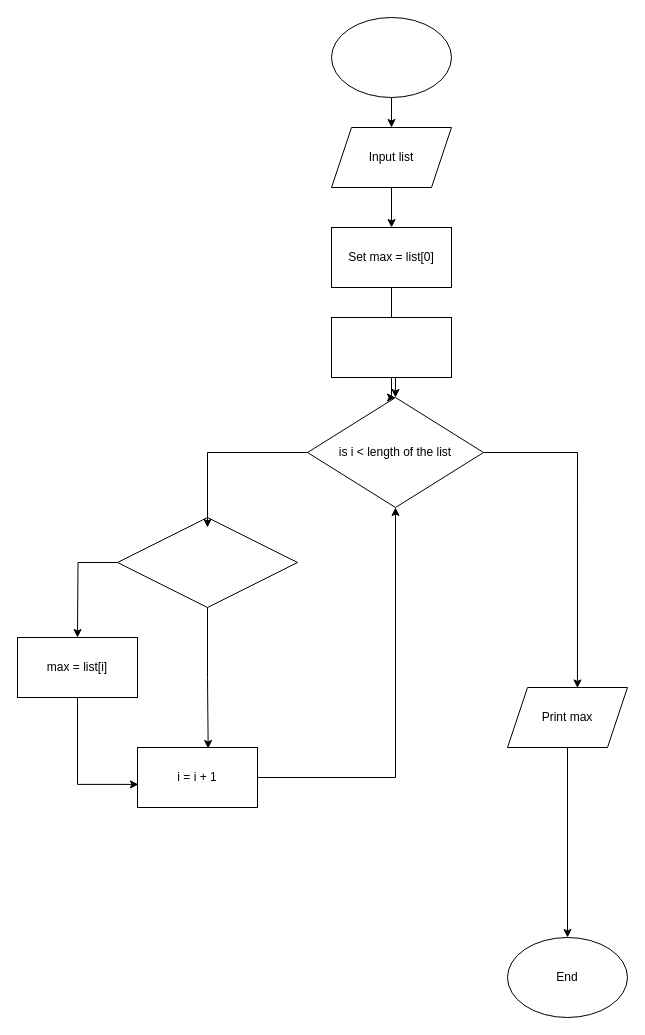
This 645x1035 diagram has some shape labels left out. The centre of each missing label's shape, as x and y in pixels:
"Is list[i] > max?" belongs at pixel 207 562.
"set i = 1" belongs at pixel 391 347.
"Start" belongs at pixel 391 57.
